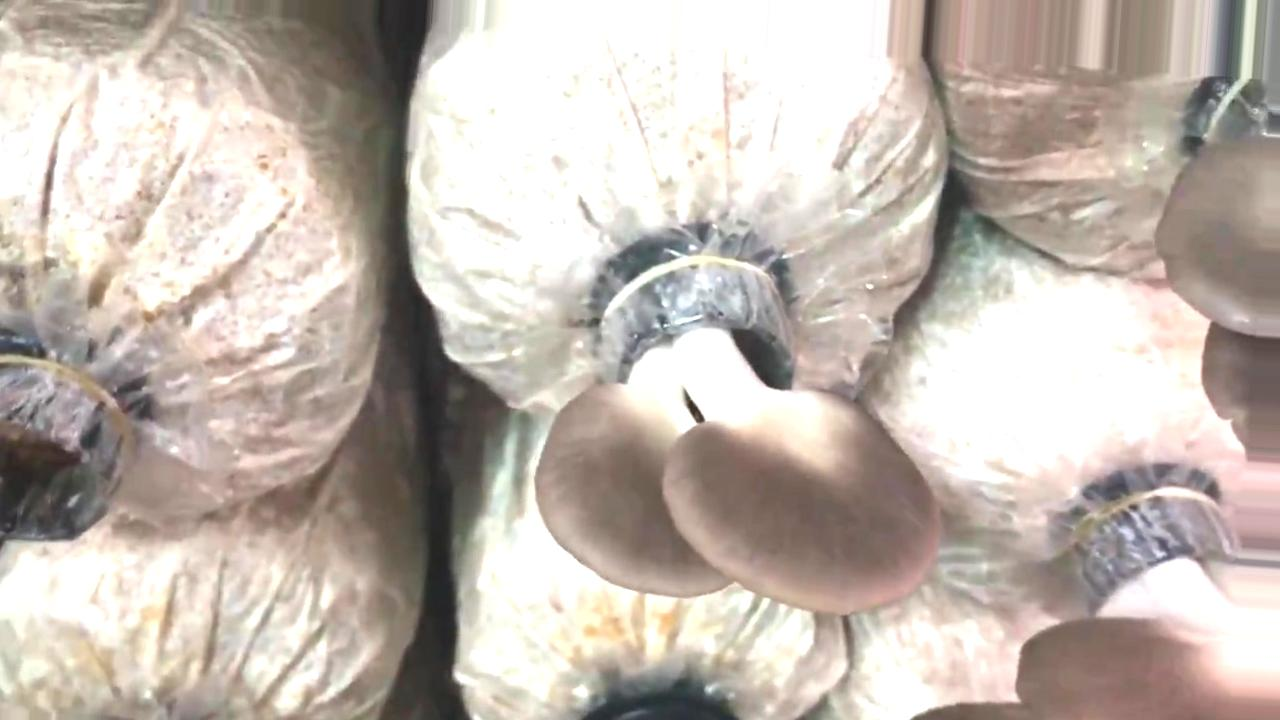nam: (536, 257, 932, 616), (911, 506, 1278, 720)
